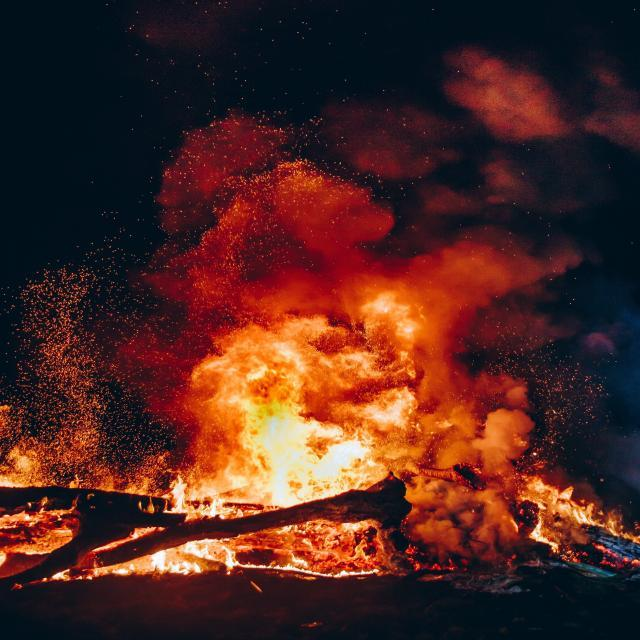Fire: (0, 334, 640, 588)
Smoke: (1, 1, 640, 333)
